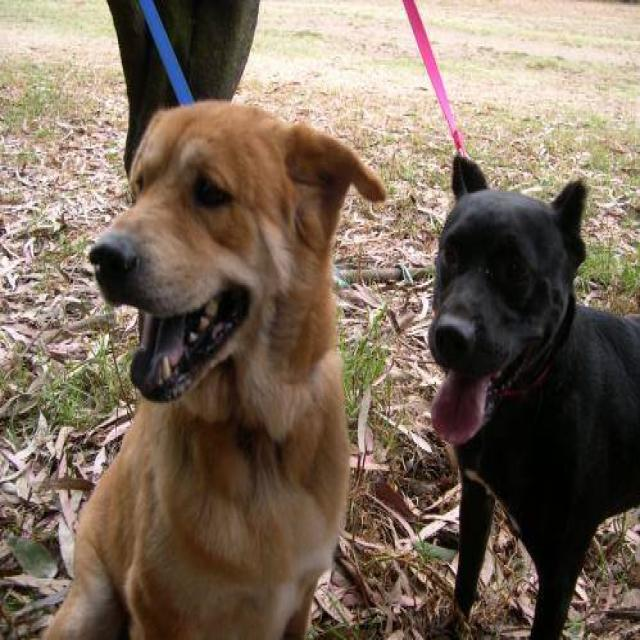dog: (33, 96, 386, 638), (426, 152, 639, 638)
